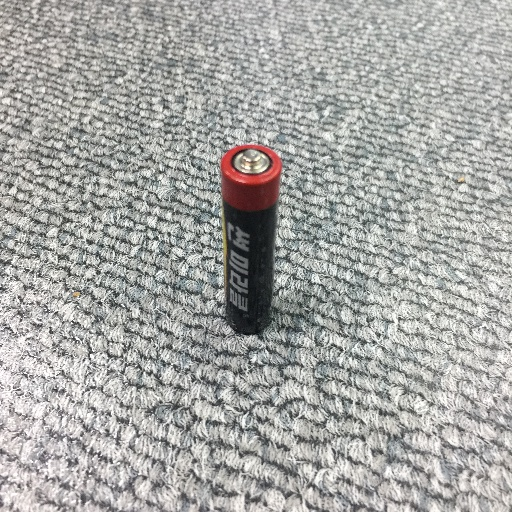Battery_0: (215, 133, 283, 340)
